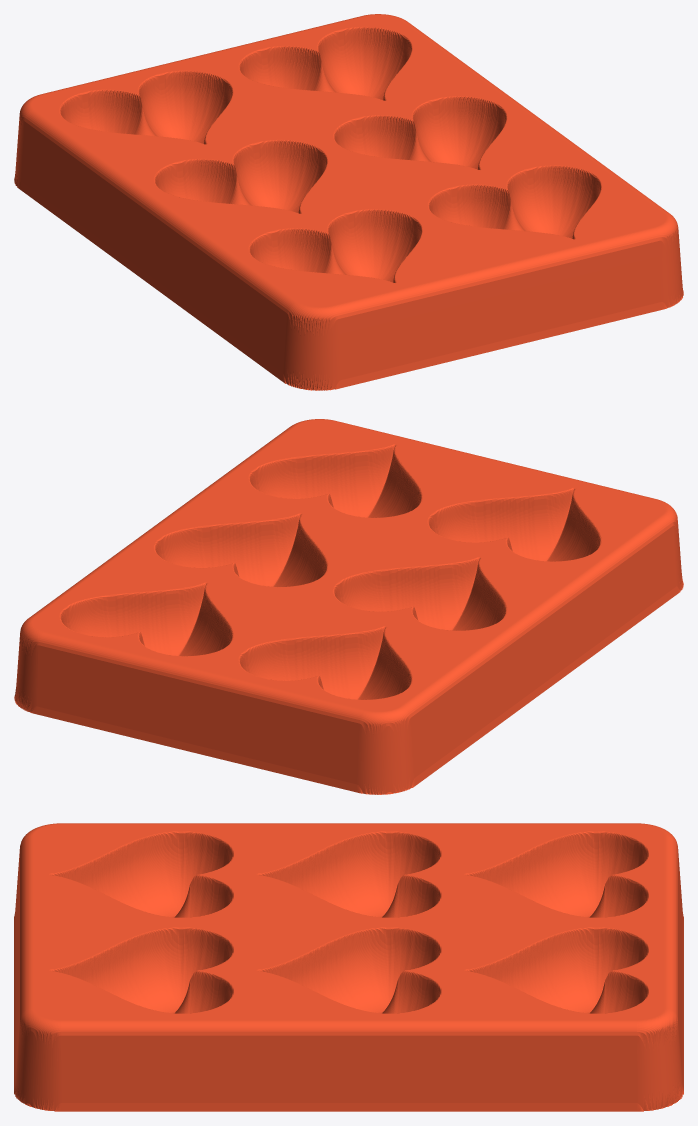
Rendered from mold.glb.
3 renders of one model, top to bottom at view 1: azimuth 30°, elevation 25°; view 2: azimuth 150°, elevation 25°; view 3: azimuth 270°, elevation 25°, orthographic. The views are drawn at different scales.
Parts seen in each view (by area): view 1: geometry_0; view 2: geometry_0; view 3: geometry_0.
Part boxes in pixels (x1,y1,x2,y2): geometry_0: [14, 14, 683, 390]; geometry_0: [14, 419, 683, 794]; geometry_0: [14, 823, 683, 1111].
Size of the model in its own units: 0.0955 by 0.0175 by 0.1276.
